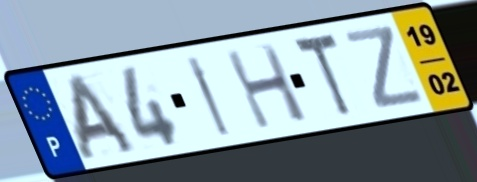4: (119, 63, 182, 149)
A: (65, 71, 141, 164)
H: (221, 41, 312, 132)
I: (183, 53, 234, 140)
T: (288, 30, 357, 120)
Z: (340, 22, 428, 112)
